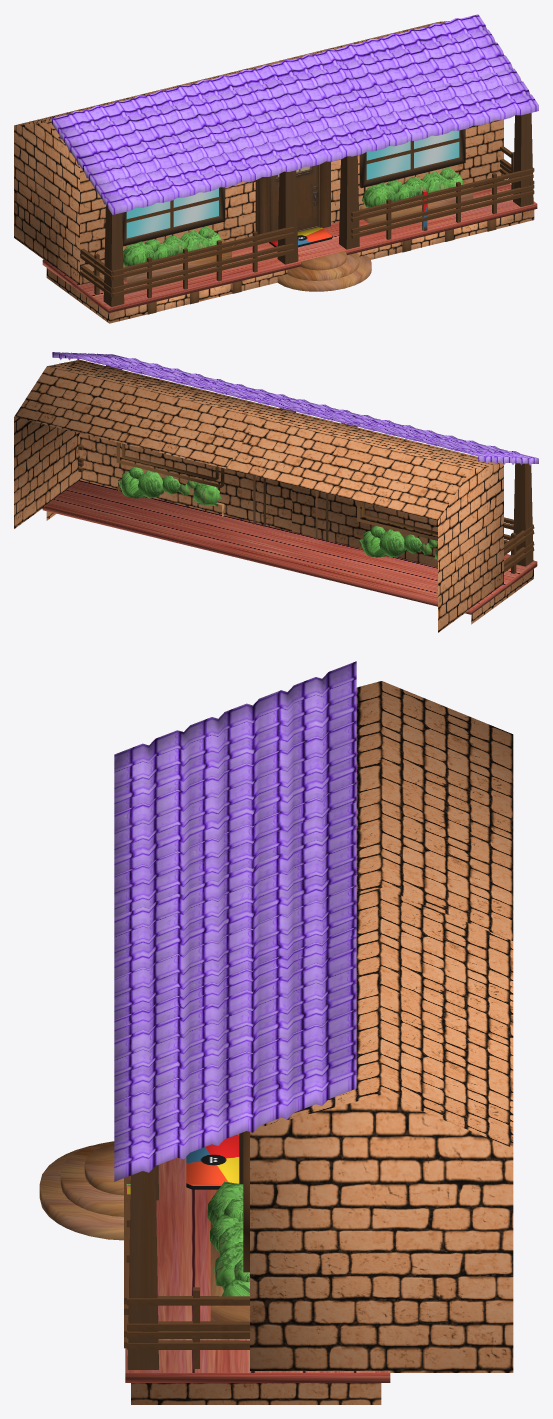
The model's file is Casa (1).fbx.
The picture shows the model from 3 angles, top to bottom: view 1: azimuth 30°, elevation 25°; view 2: azimuth 150°, elevation 25°; view 3: azimuth 270°, elevation 25°; orthographic projection. The views are drawn at different scales.
Parts seen in each view (by area): view 1: Cube; view 2: Cube; view 3: Cube.
Boxes of the visible parts, bbox=[...] form: Cube: bbox=[14, 14, 538, 323]; Cube: bbox=[14, 352, 538, 632]; Cube: bbox=[39, 661, 513, 1404].
Size of the model in its own units: 1412 by 522 by 676.
